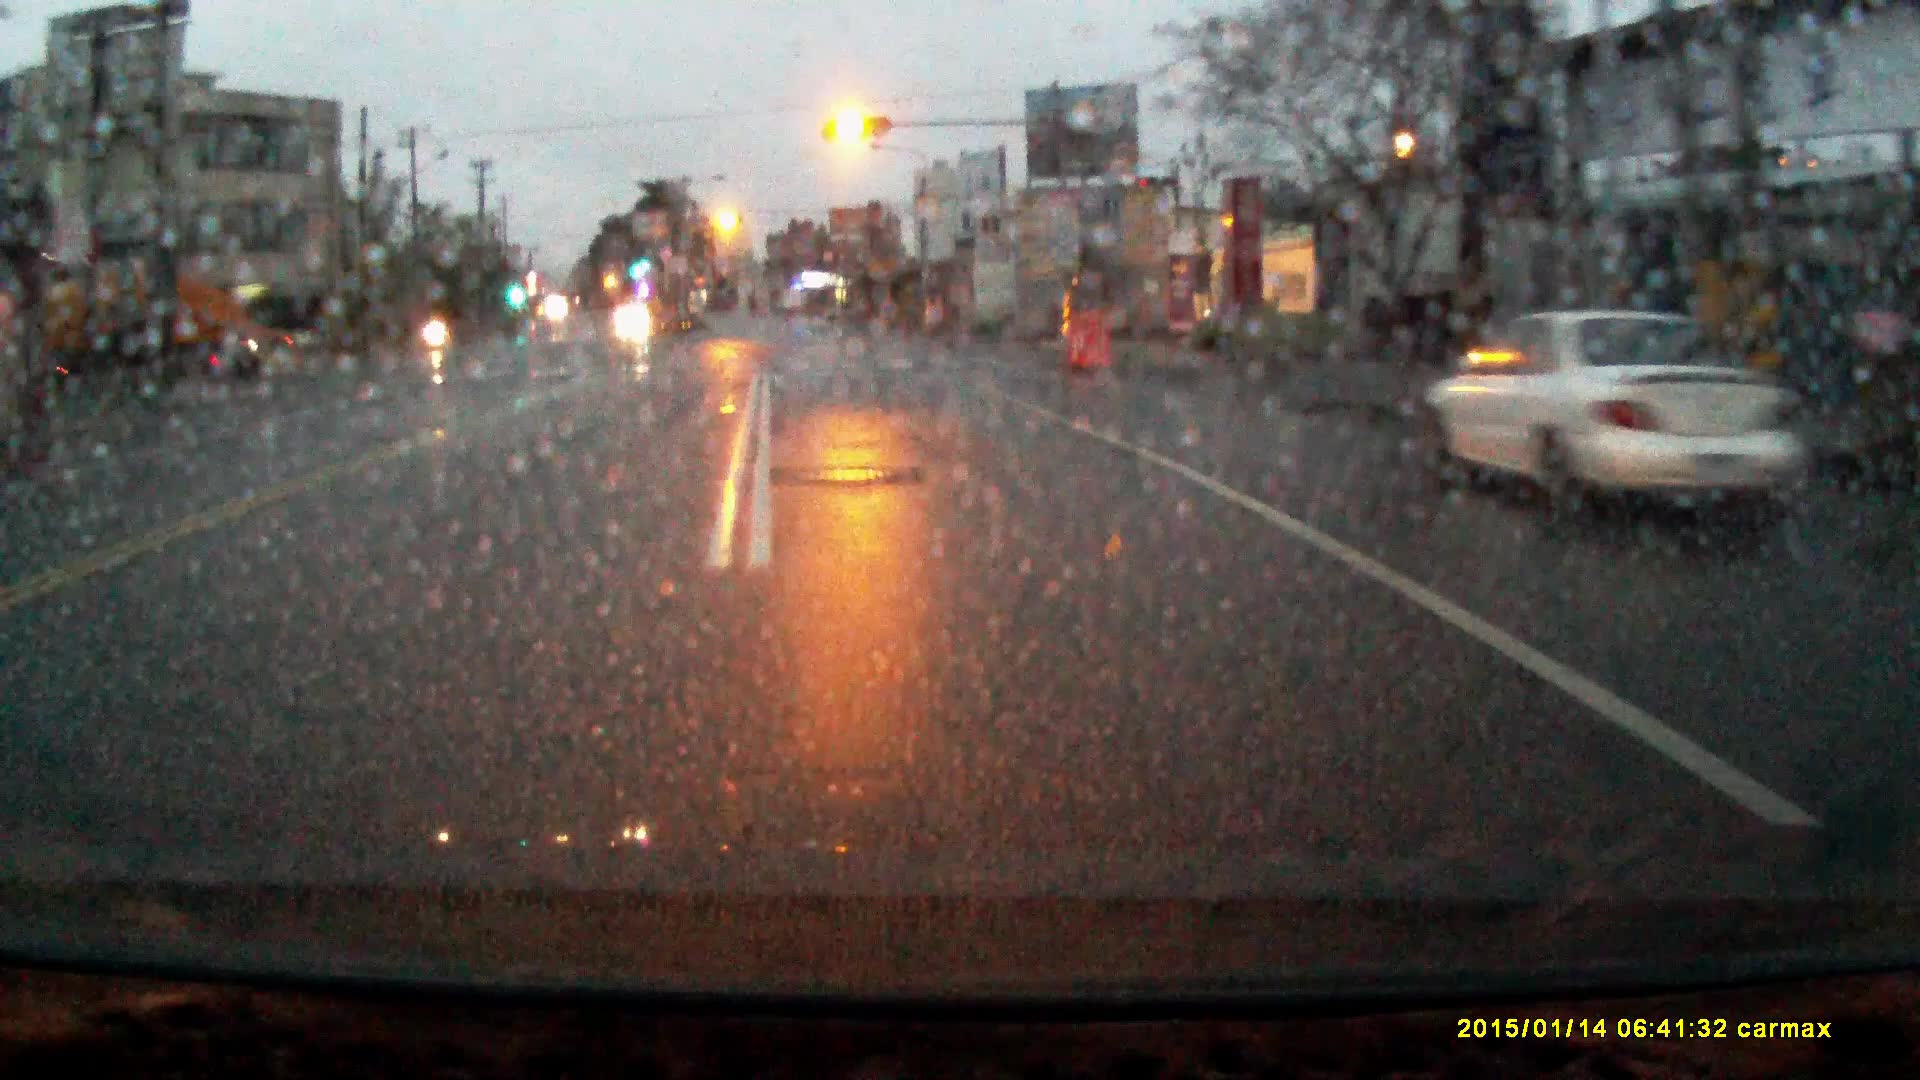rider: (422, 294, 454, 357)
vehicle: (1414, 308, 1827, 530), (10, 258, 254, 382), (615, 299, 653, 332)
